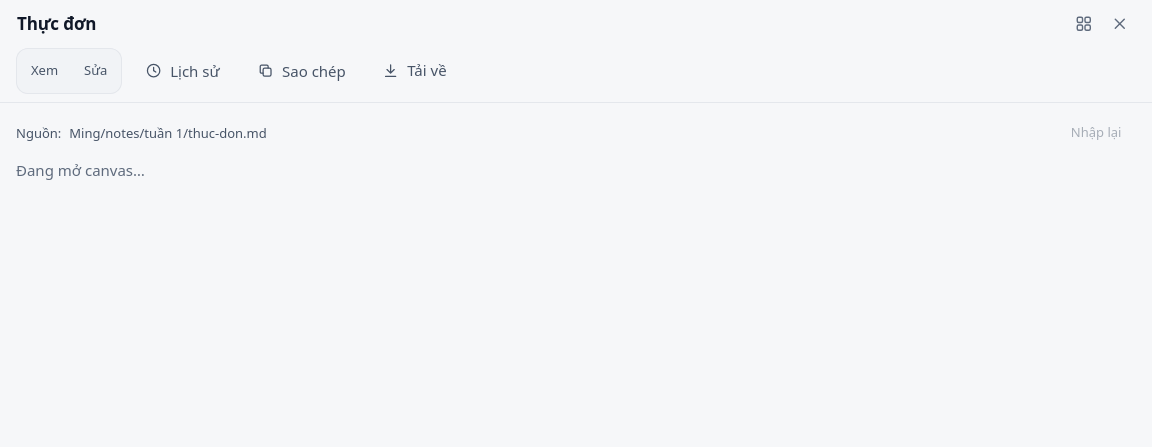
Test: reading a canvas's file again › is held off until the canvas has been read, and a press before then asks for nothing
Expected: the text with class "canvas-source-file" reads "thuc-don.md", [188,124,267,142]
Click the button "Nhập lại": [1096, 133] box [1056,115,1136,151]
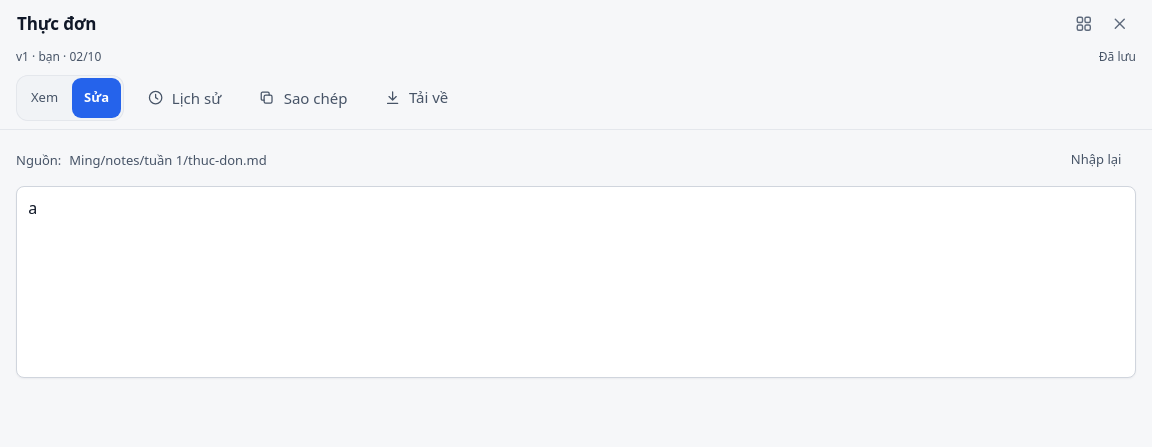
Click the button "Nhập lại": [1096, 160] box [1056,142,1136,178]
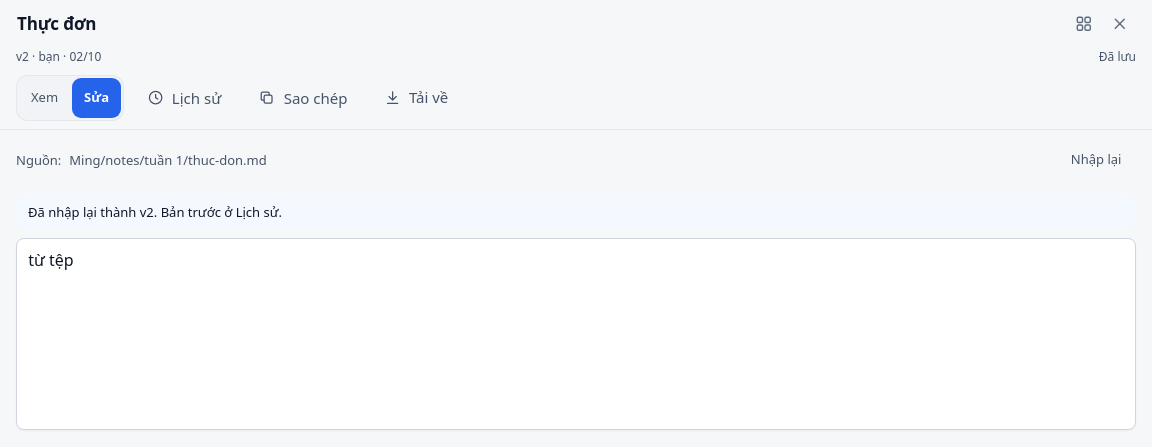
Now the text box named "Nội dung canvas" holds "từ tệp", box [16,238,1136,430]
